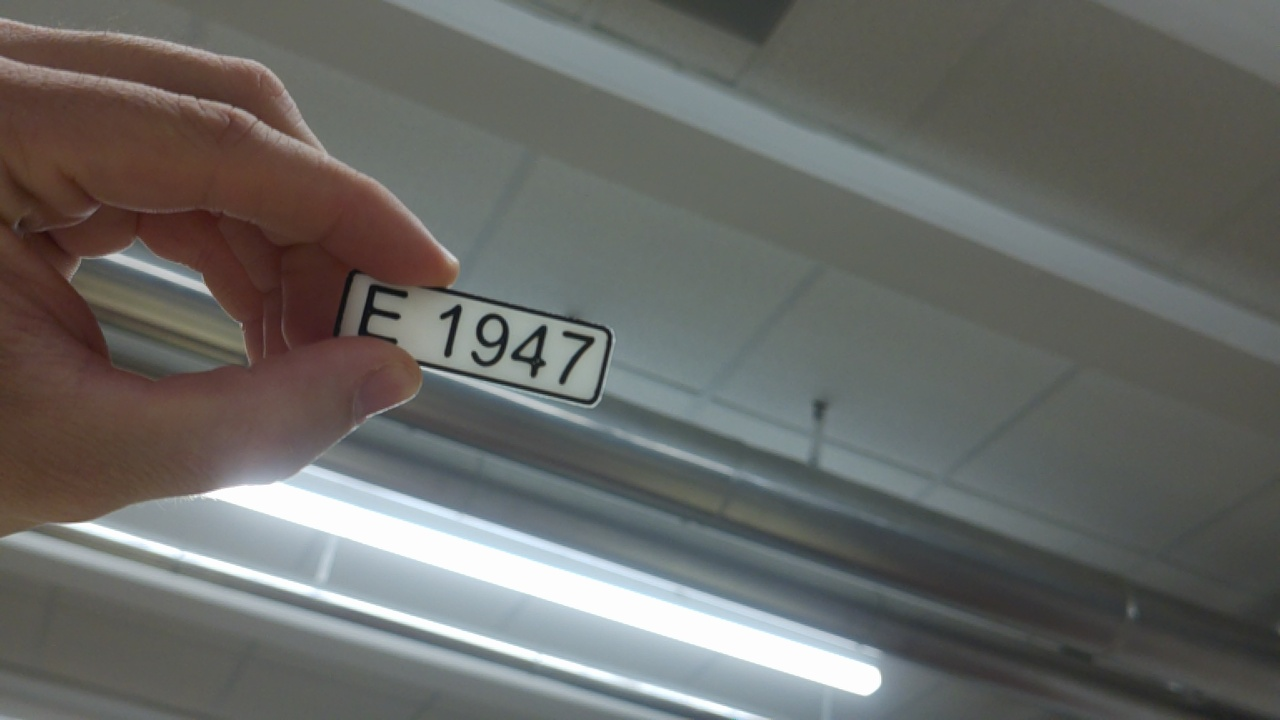license_plate: (331, 262, 613, 411)
